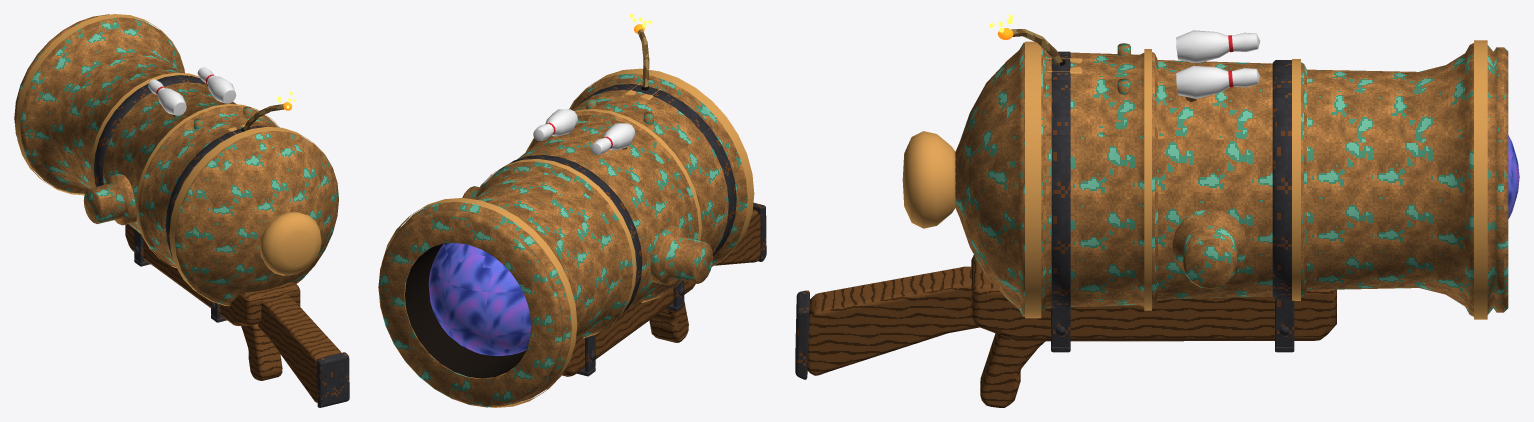
The model's file is w_bowling_cannon.glb.
3 views of the same model, side by side, from view 1: azimuth 30°, elevation 25°; view 2: azimuth 150°, elevation 25°; view 3: azimuth 270°, elevation 25° (orthographic). The views are drawn at different scales.
Visible parts, largest first — view 1: cannon_body_wzB, cannon_body_wzA, cannon_body_wzN; view 2: cannon_body_wzB, cannon_body_wzA, cannon_body_wzN; view 3: cannon_body_wzB, cannon_body_wzA, cannon_body_wzN.
Part boxes in pixels (x1,y1,x2,y2): cannon_body_wzB: [14, 14, 338, 306]; cannon_body_wzA: [94, 75, 349, 407]; cannon_body_wzN: [148, 67, 295, 131]; cannon_body_wzB: [378, 68, 754, 407]; cannon_body_wzA: [495, 84, 766, 376]; cannon_body_wzN: [405, 14, 652, 378]; cannon_body_wzB: [902, 40, 1519, 319]; cannon_body_wzA: [795, 51, 1336, 407]; cannon_body_wzN: [989, 14, 1260, 98].
Bounding box in the file's own units: 0.46 × 0.597 × 0.9709.
Materials: 11 (5 with a texture image).
